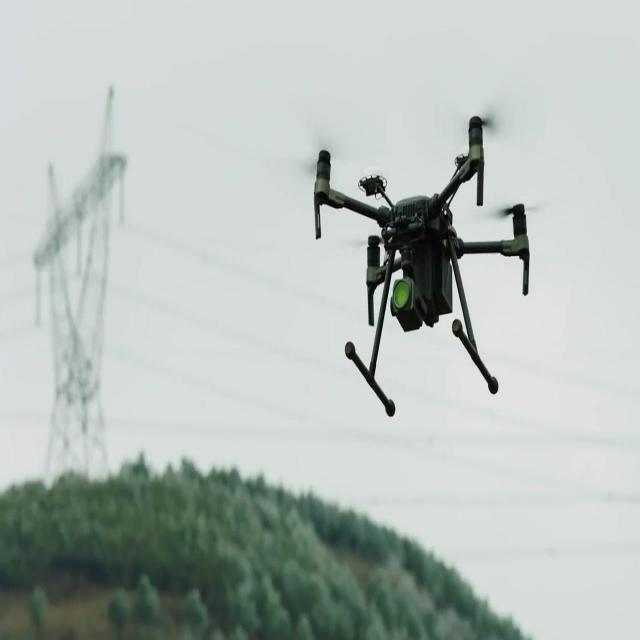UAV: (310, 113, 544, 418)
